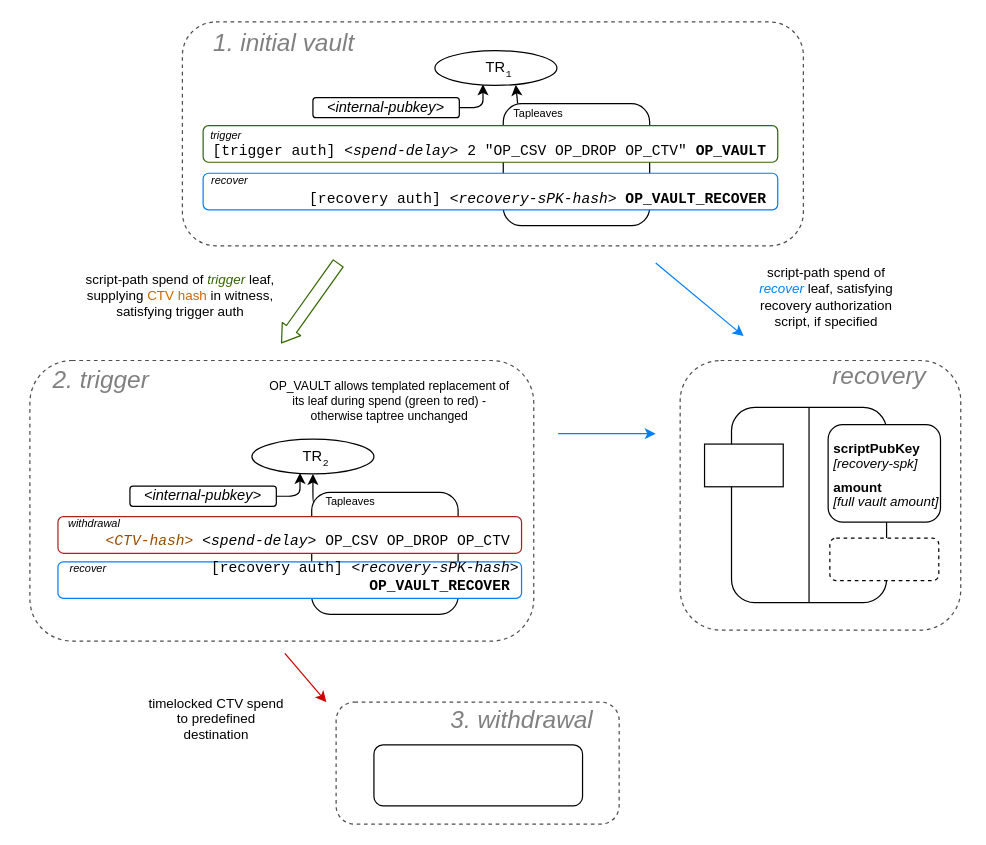
Image size: 986x845. Some labels were removed from this diagram. The shapes that lost their labels are listed below. From the top down, each one's centre as x and y in pixels, then its label:
the point at 743,465: Script-path reveal
the point at 884,559: Ephemeral anchor
the point at 478,775: [transaction satisfying CTV hash]
